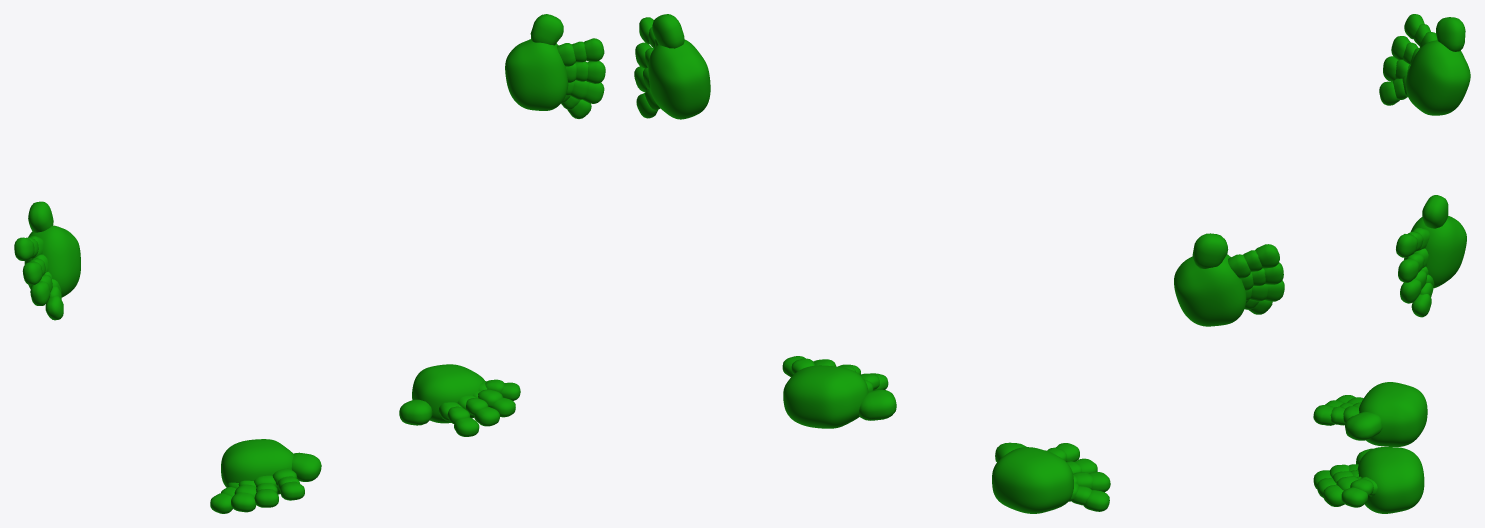
File: pates-singe-green.gltf
3 views of the same model, side by side, from view 1: azimuth 30°, elevation 25°; view 2: azimuth 150°, elevation 25°; view 3: azimuth 270°, elevation 25° (orthographic). The views are drawn at different scales.
Parts seen in each view (by area): view 1: Pieds et main; view 2: Pieds et main; view 3: Pieds et main.
Part boxes in pixels (x1,y1,x2,y2): Pieds et main: (14, 14, 605, 513); Pieds et main: (634, 14, 1284, 513); Pieds et main: (1313, 14, 1470, 513).
Size of the model in its own units: 5.44 by 3.43 by 1.22.
